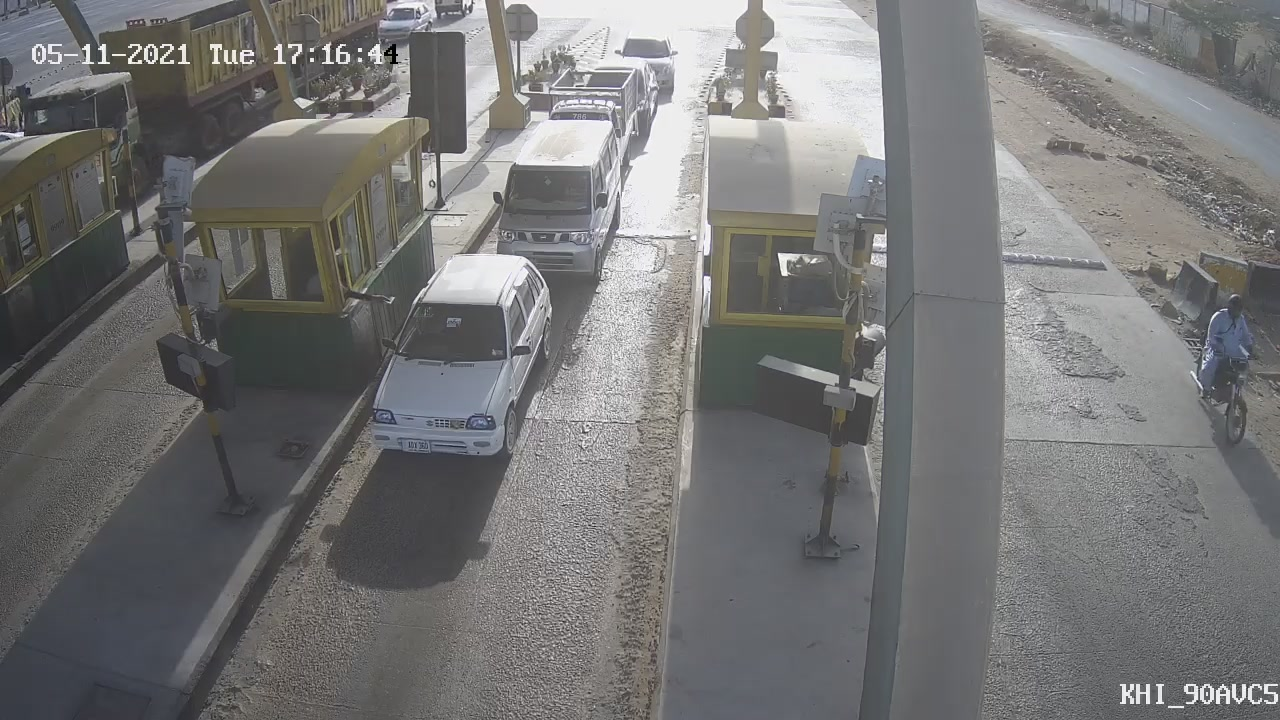F1: (344, 233, 576, 486), (468, 107, 644, 294)
